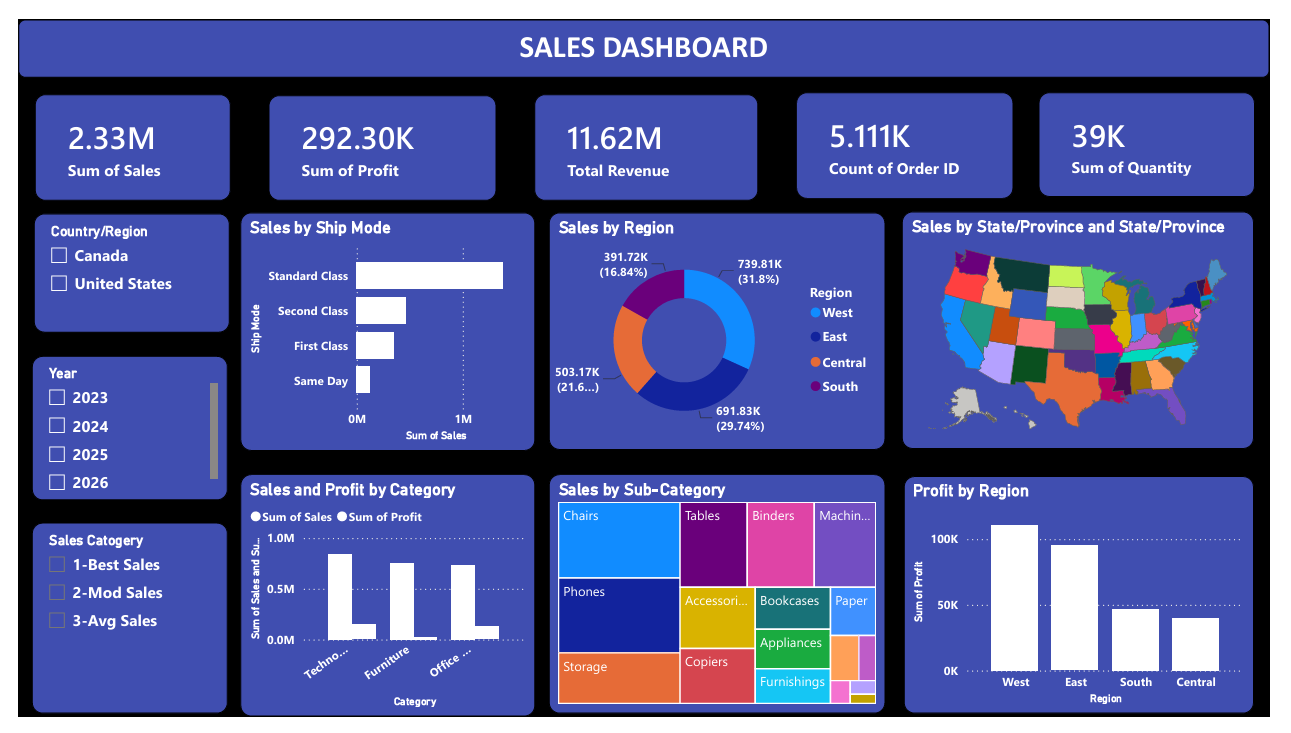

This screenshot's page, from the dashboard's own definition file:
{"tool":"powerbi","page":{"name":"Executive Dashboard","canvas":[1290,720],"ordinal":0},"visuals":[{"type":"cardVisual","fields":{"Data":["Sum(Orders.Sales)"]},"box":[28,74,202,110],"z":0},{"type":"cardVisual","fields":{"Data":["Sum(Orders.Profit)"]},"box":[256.1,76.3,224,108],"z":1000},{"type":"cardVisual","fields":{"Data":["Orders.Total Revenue"]},"box":[509,76.3,232,110],"z":2000},{"type":"cardVisual","fields":{"Data":["Count(Orders.Order ID)"]},"box":[771.4,74.8,224,110],"z":3000},{"type":"cardVisual","fields":{"Data":["Sum(Orders.Quantity)"]},"box":[1029.1,74.8,222,110],"z":4000},{"type":"textbox","box":[15,0,1263.3,56.7],"z":5000},{"type":"clusteredBarChart","title":"Sales by Ship Mode","fields":{"Category":["Orders.Ship Mode"],"Y":["Sum(Orders.Sales)"]},"box":[229,198.8,303.8,246.5],"z":6000},{"type":"donutChart","title":"Sales by Region","fields":{"Category":["Orders.Region"],"Y":["Sum(Orders.Sales)"]},"box":[547.2,198.8,346.8,245],"z":7000},{"type":"shapeMap","title":"Sales by State/Province and State/Province","fields":{"Value":["Sum(Orders.Sales)"],"Series":["Orders.State/Province"],"Category":["Orders.State/Province"]},"box":[910.9,197.8,362.7,245],"z":8000},{"type":"clusteredColumnChart","title":"Sales and Profit by Category","fields":{"Y":["Sum(Orders.Sales)","Sum(Orders.Profit)"],"Category":["Orders.Category"]},"box":[229,469.2,303.8,249.7],"z":9000},{"type":"treemap","title":"Sales by Sub-Category","fields":{"Group":["Orders.Sub-Category"],"Values":["Sum(Orders.Sales)"]},"box":[547.2,469.2,346.8,246.5],"z":10000},{"type":"columnChart","title":"Profit by Region","fields":{"Category":["Orders.Region"],"Y":["Sum(Orders.Profit)"]},"box":[913,470.8,361.1,245],"z":11000},{"type":"slicer","fields":{"Values":["Orders.Sales Catogery"]},"box":[14.3,518.5,202,197.2],"z":12000},{"type":"slicer","fields":{"Values":["Orders.Country/Region"]},"box":[15.9,200.4,202,122.5],"z":13000},{"type":"slicer","fields":{"Values":["Date.Year"]},"box":[14.3,346.8,202,149.5],"z":14000}]}

Visuals, with their boxes in screenshot pixels (x1, y1, x2, y2), scaled from the page's 1290x720 canvas onto the 1291x733 screenshot:
cardVisual - Sum(Orders.Sales): (28, 75, 230, 187)
cardVisual - Sum(Orders.Profit): (256, 78, 480, 188)
cardVisual - Orders.Total Revenue: (509, 78, 742, 190)
cardVisual - Count(Orders.Order ID): (772, 76, 996, 188)
cardVisual - Sum(Orders.Quantity): (1030, 76, 1252, 188)
textbox: (15, 0, 1279, 58)
"Sales by Ship Mode" clusteredBarChart: (229, 202, 533, 453)
"Sales by Region" donutChart: (548, 202, 895, 452)
"Sales by State/Province and State/Province" shapeMap: (912, 201, 1275, 451)
"Sales and Profit by Category" clusteredColumnChart: (229, 478, 533, 732)
"Sales by Sub-Category" treemap: (548, 478, 895, 729)
"Profit by Region" columnChart: (914, 479, 1275, 729)
slicer - Orders.Sales Catogery: (14, 528, 216, 729)
slicer - Orders.Country/Region: (16, 204, 218, 329)
slicer - Date.Year: (14, 353, 216, 505)
